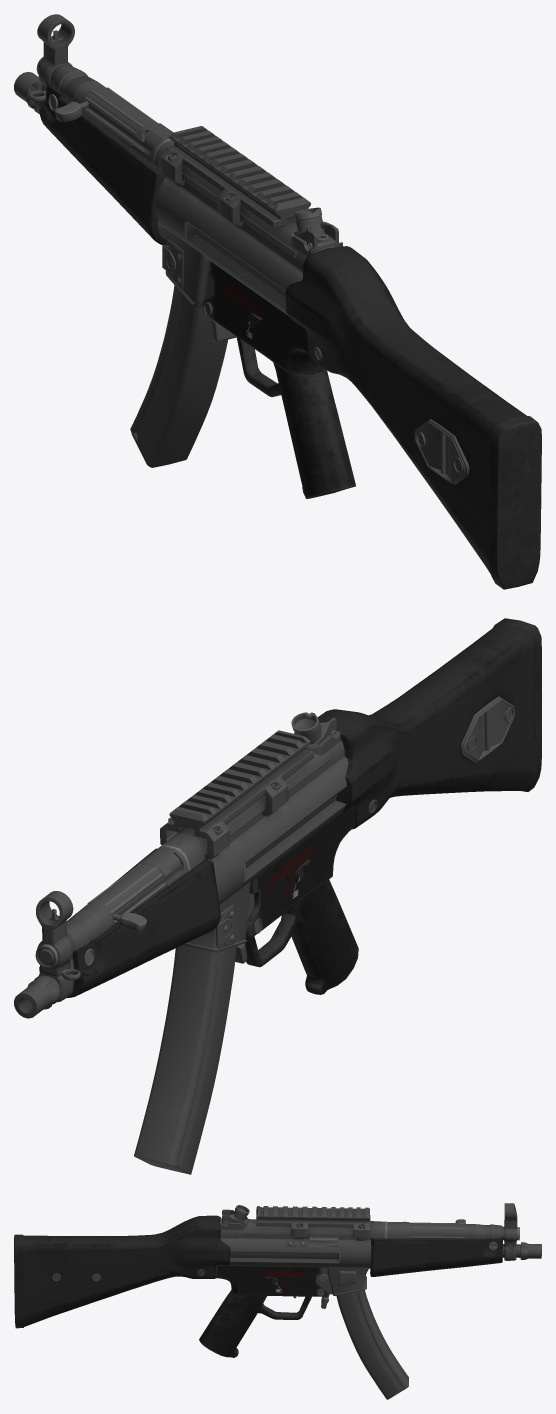
The model's file is smg_mp9.glb.
3 renders of one model, top to bottom at view 1: azimuth 30°, elevation 25°; view 2: azimuth 150°, elevation 25°; view 3: azimuth 270°, elevation 25°, orthographic. The views are drawn at different scales.
Parts seen in each view (by area): view 1: Frame, Magazine; view 2: Frame, Magazine; view 3: Frame, Magazine, Slide.
Boxes of the visible parts, x1,y1,x2,y2 form: Frame: (14,14,541,589); Magazine: (130,285,227,467); Frame: (14,618,541,1018); Magazine: (134,945,236,1174); Frame: (14,1203,541,1357); Magazine: (336,1290,408,1399); Slide: (309,1235,338,1245).
Bounding box in the file's own units: 0.0522 × 0.2259 × 0.5623.
Materials: 2 (2 with a texture image).
